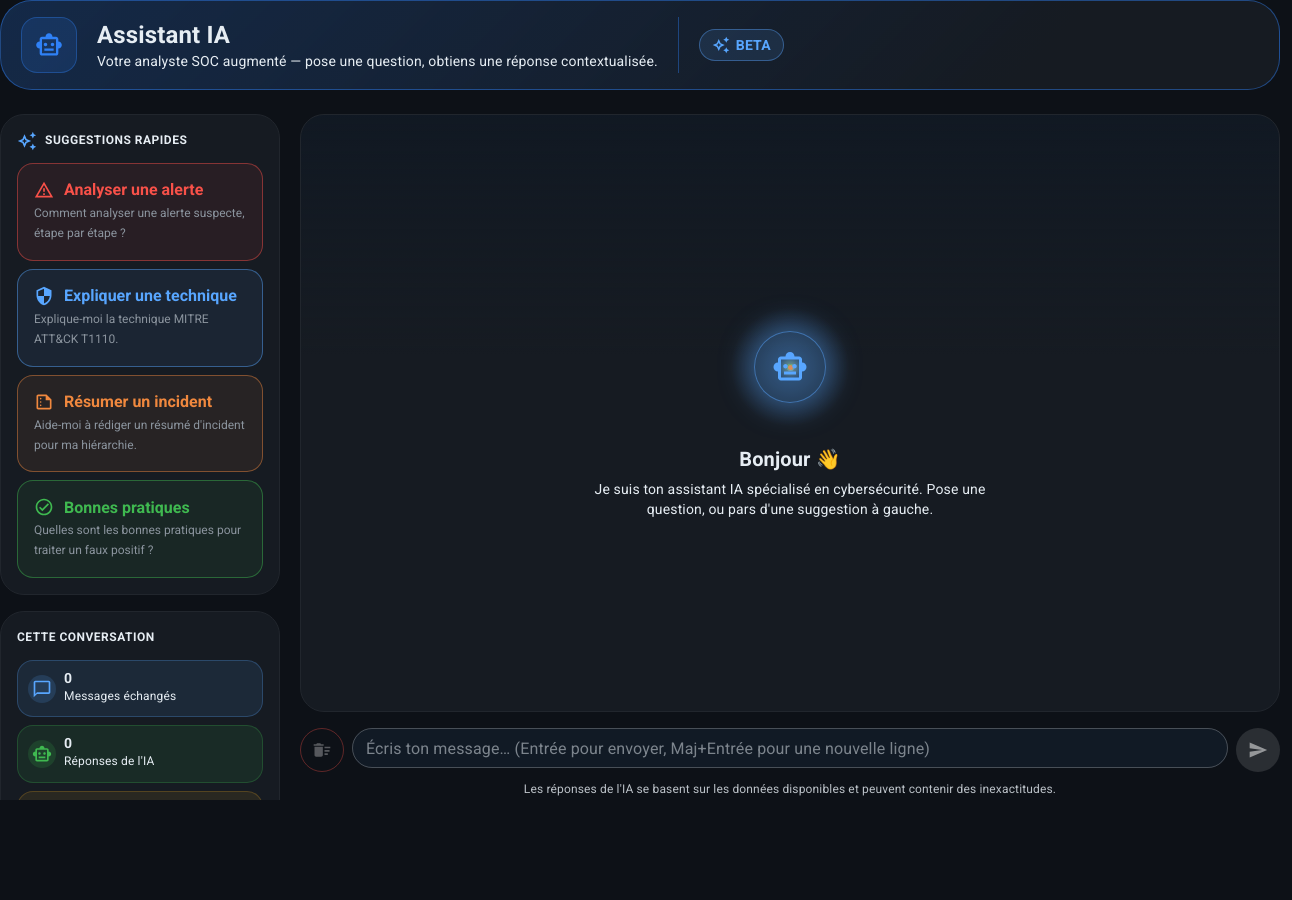
it: AssistantPage › never resends a previously failed message as conversation history
Replace the text in the text box with placeholder "Écris ton message" with "Bonjour" at (790, 748), box x1=366 y1=737 x2=1214 y2=760
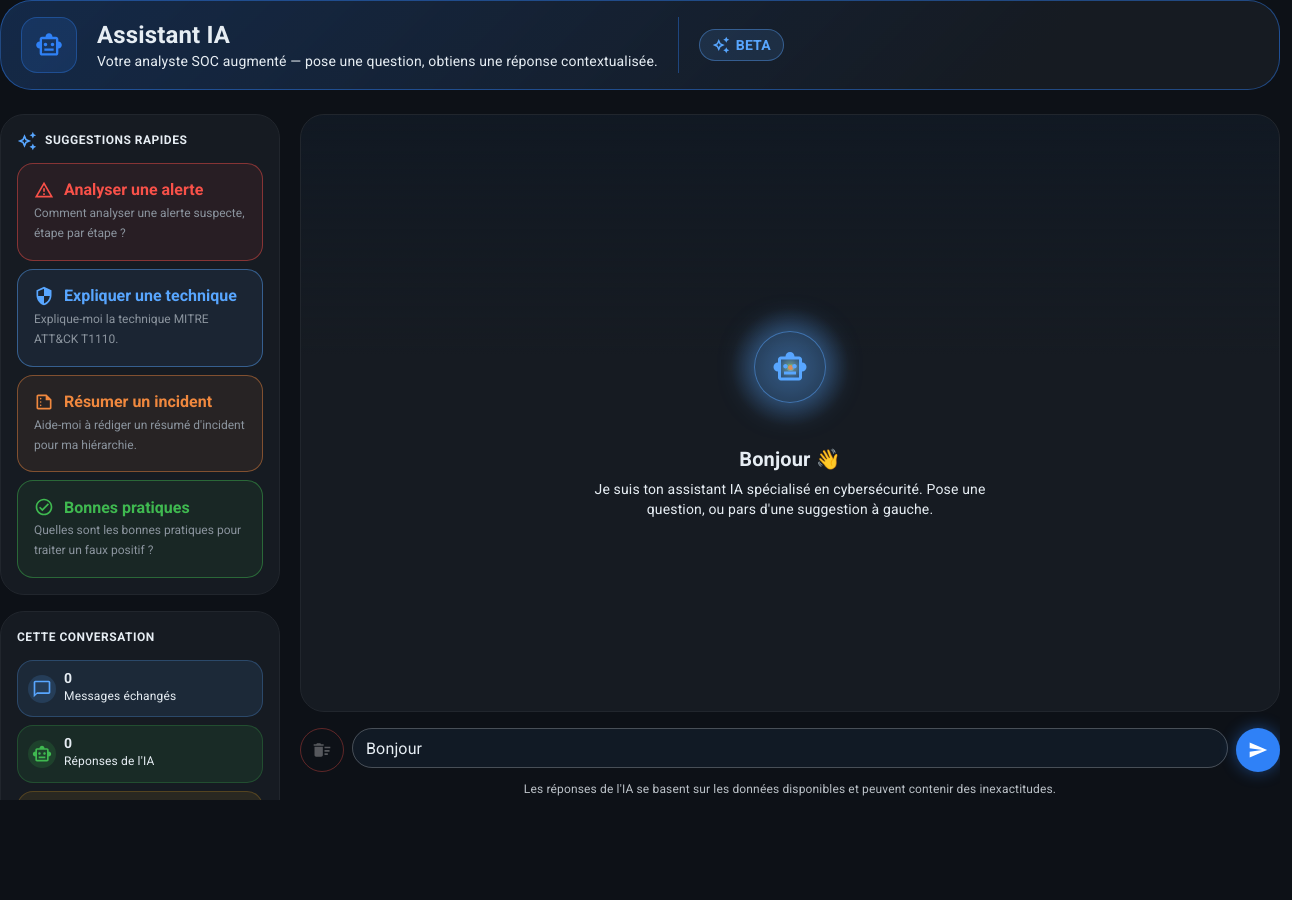
Click the button named "Envoyer" at (1258, 750), box x1=1236 y1=728 x2=1280 y2=772
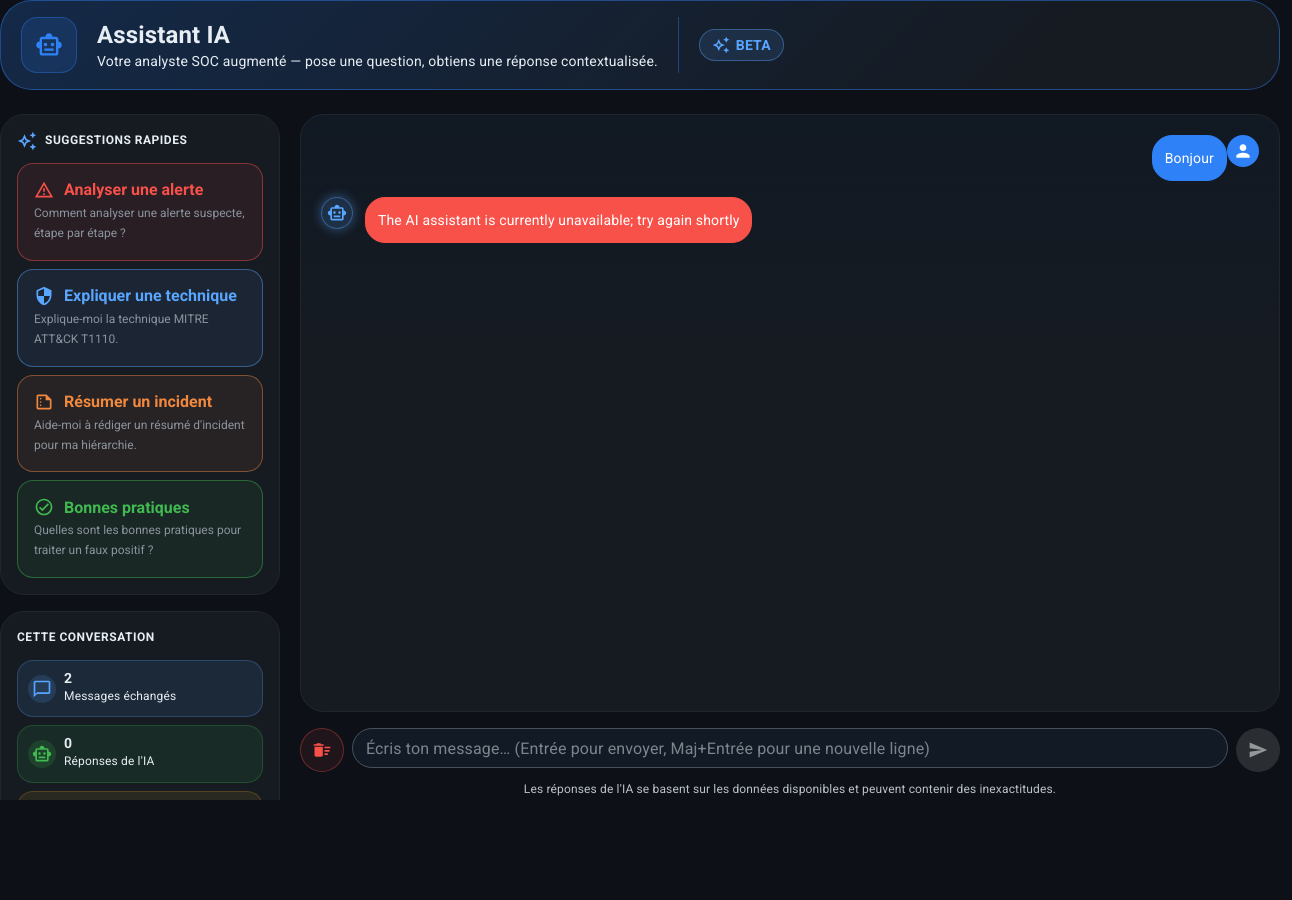
expect the text "The AI assistant is currently unavailable; try again shortly" is shown: met, box x1=378 y1=210 x2=740 y2=230
Replace the text in the text box with placeholder "Écris ton message" with "merci" at (790, 748), box x1=366 y1=737 x2=1214 y2=760
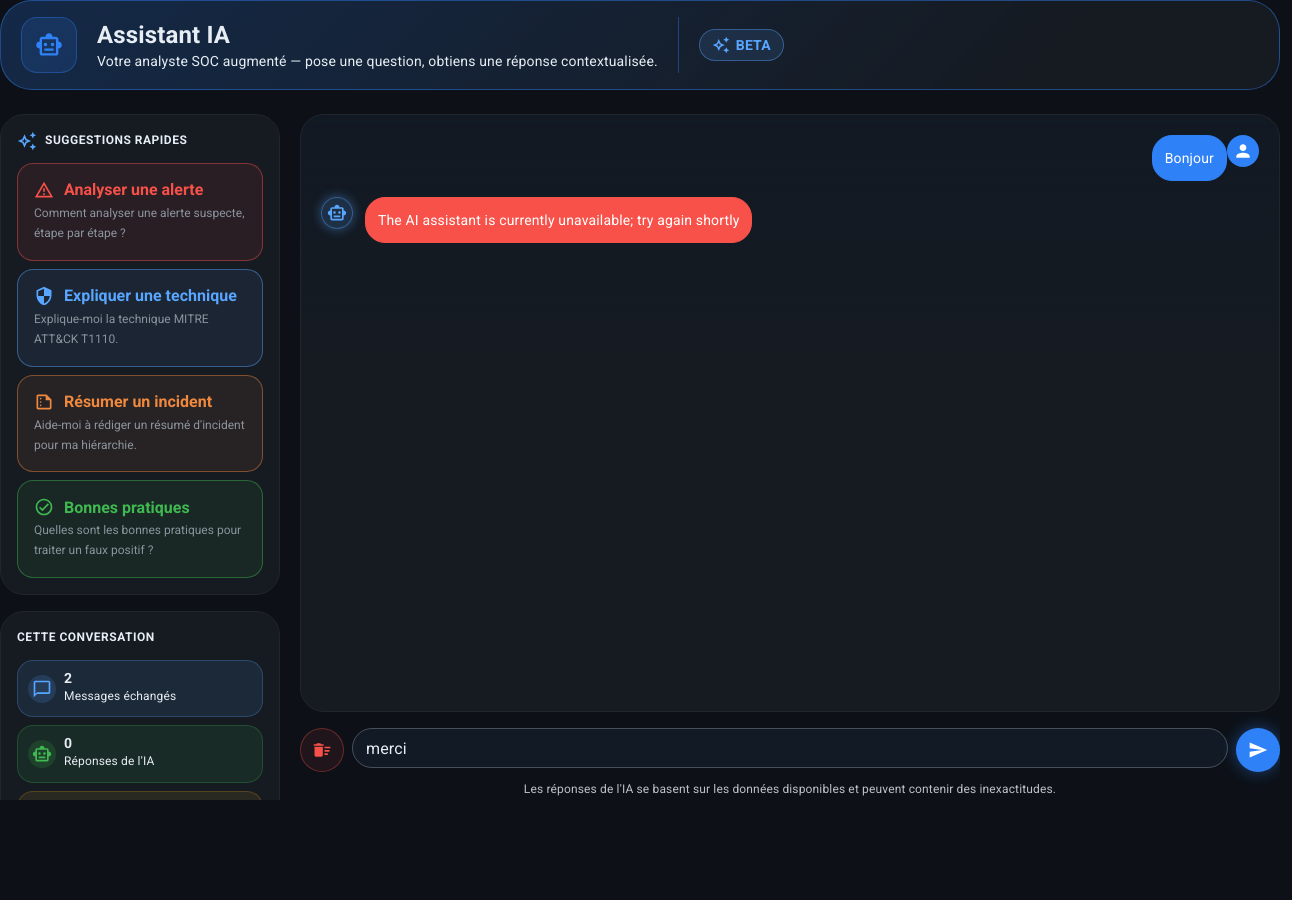
Click the button named "Envoyer" at (1258, 750), box x1=1236 y1=728 x2=1280 y2=772
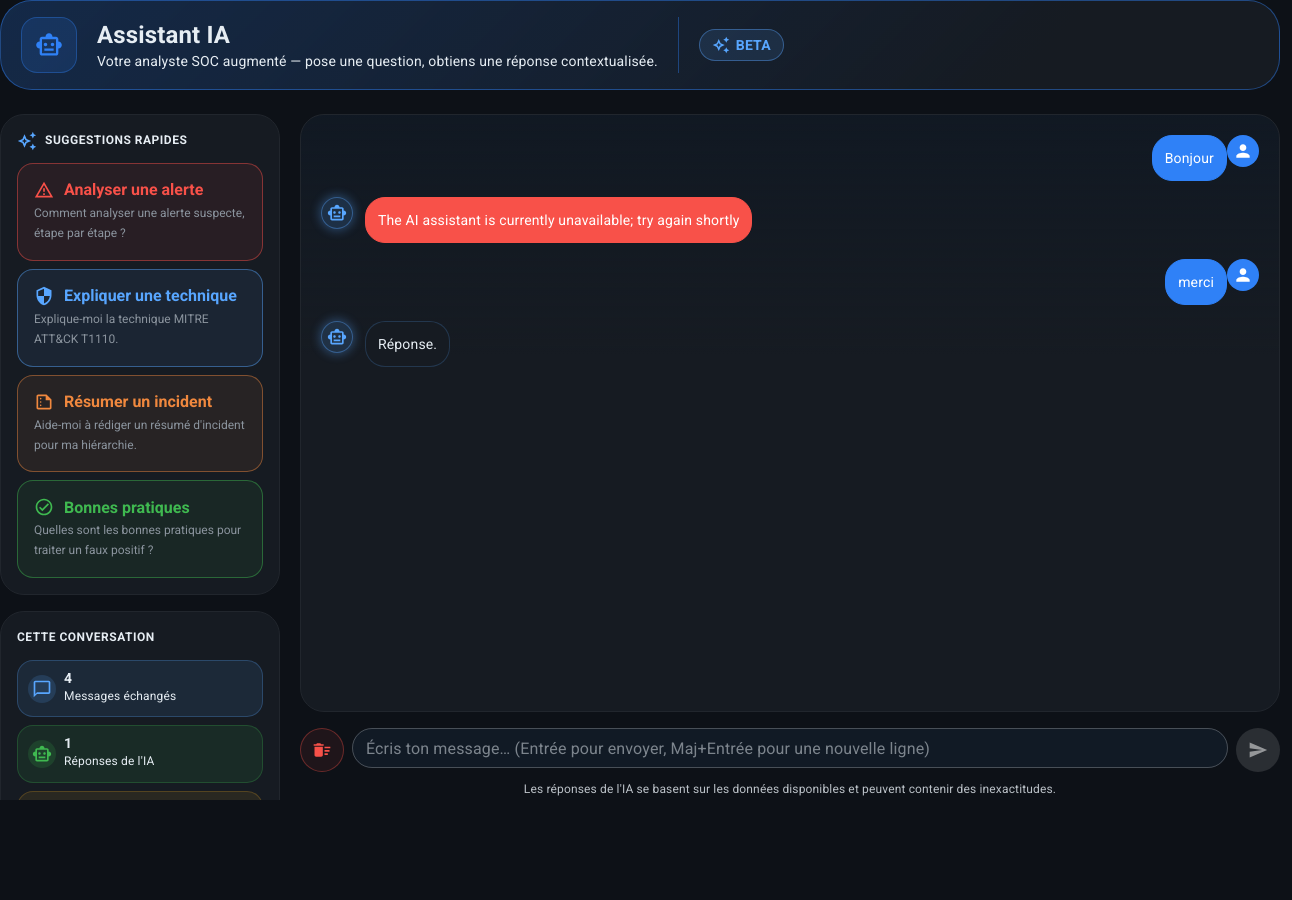
expect the text "Réponse." is shown: met, box x1=378 y1=334 x2=437 y2=354
